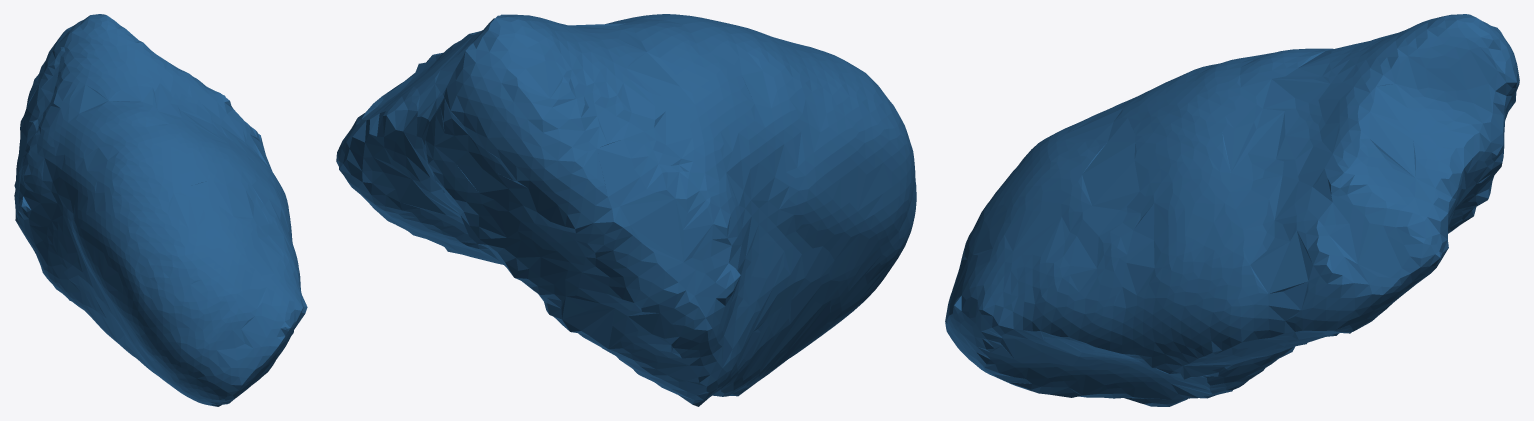
Rendered from Model_10331_LH__Dorsal_lateral_geniculate_nucleus_(DLG).obj.
3 renders of one model, left to right at view 1: azimuth 30°, elevation 25°; view 2: azimuth 150°, elevation 25°; view 3: azimuth 270°, elevation 25°, orthographic. The views are drawn at different scales.
Size of the model in its own units: 2.69 by 3.18 by 4.02.
